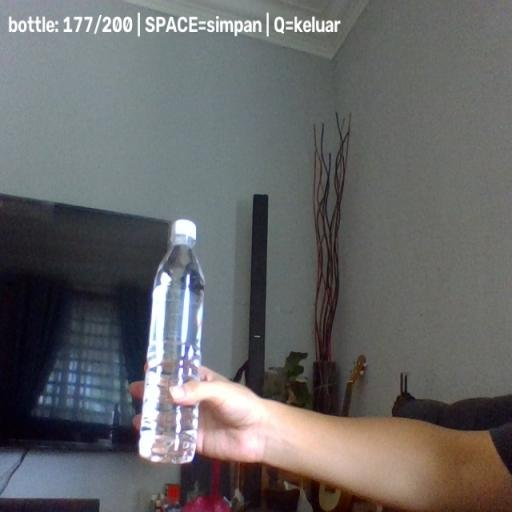Bottle: (138, 219, 206, 465)
